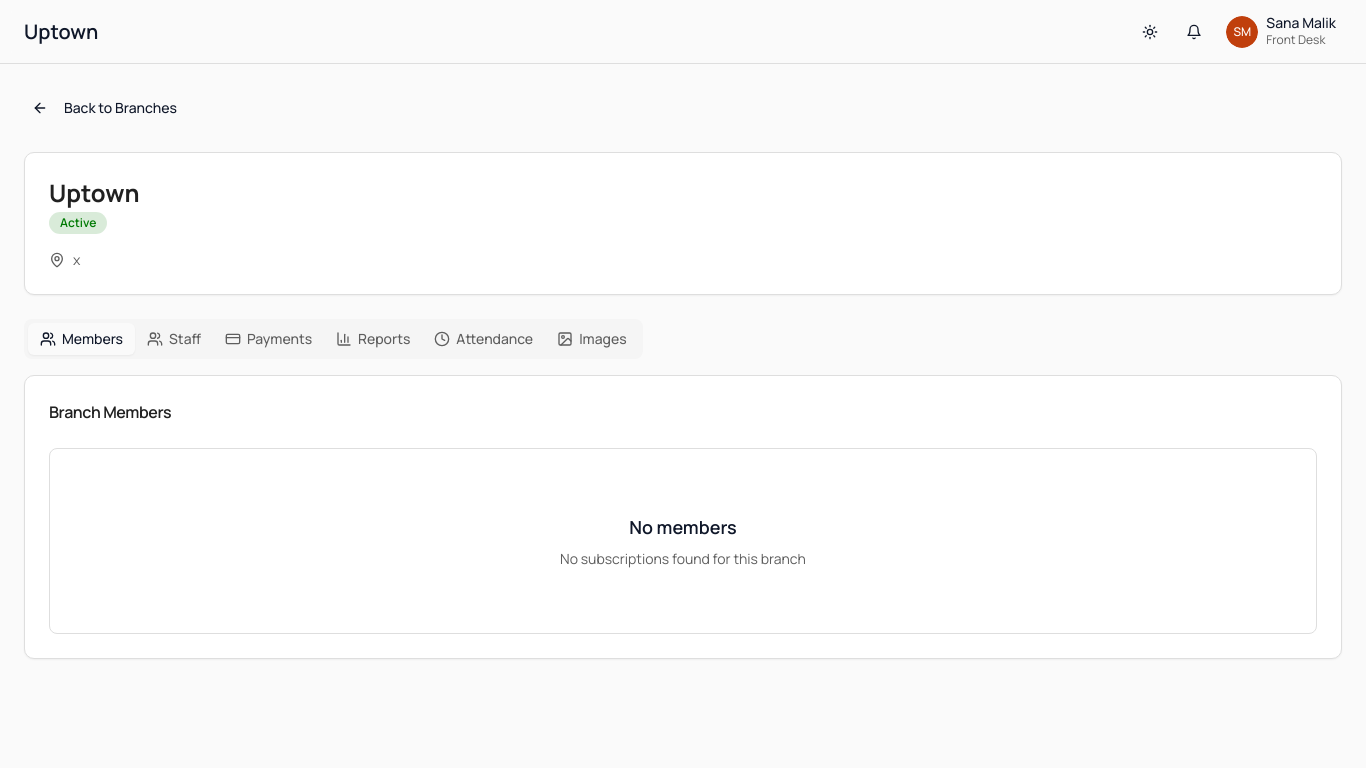
Branch detail — payment buttons follow permissions at the branch (NEW-45g) › someone with payments.verify at the branch gets final approval whatever their account role
Press the mouse on the tab "Payments" at (269,339), box [213,323,324,355]
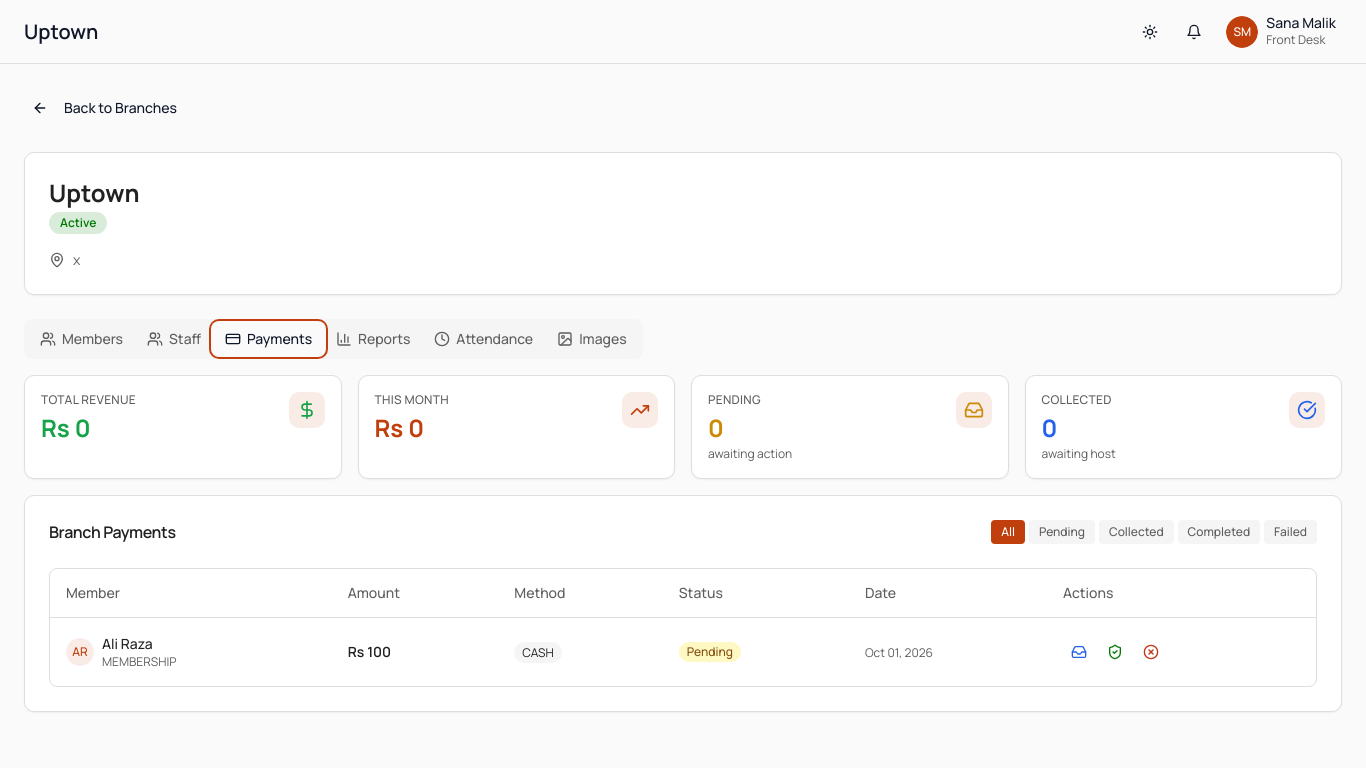
Result: the text "Ali Raza" is shown at [102,634,152,652]
Result: the button titled "Final Approval" is shown at [1099,636,1131,668]
